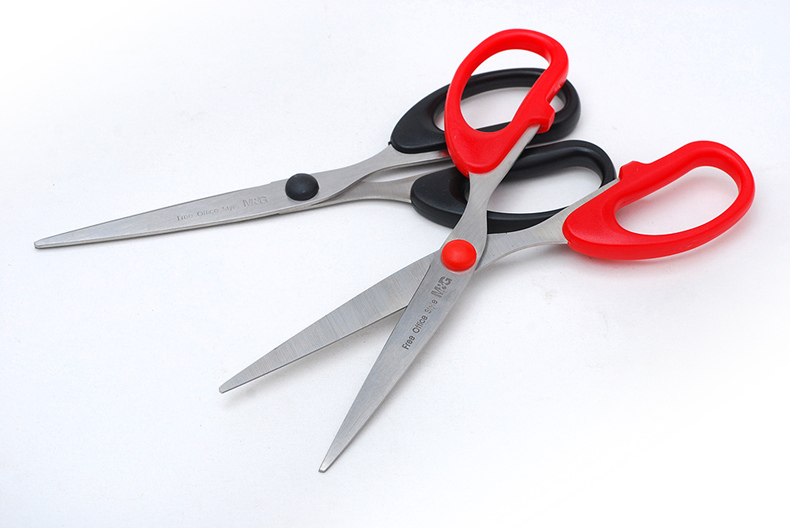scissors: (211, 23, 761, 481), (28, 63, 622, 281)
